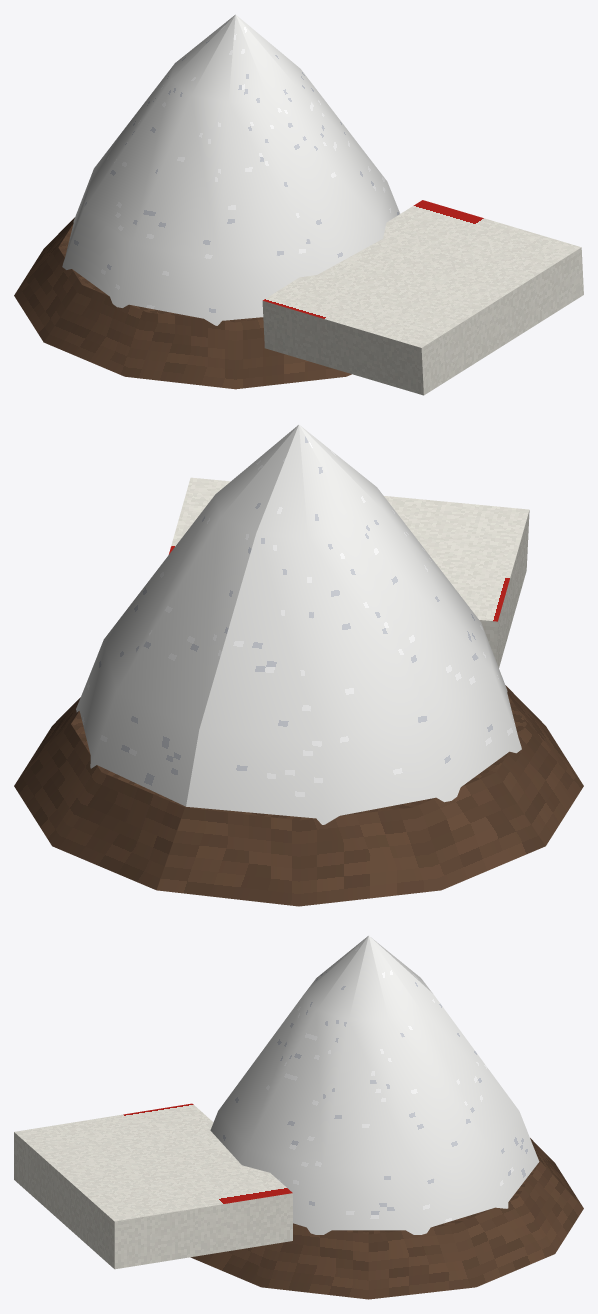
File: item_salt.glb
3 renders of one model, top to bottom at view 1: azimuth 30°, elevation 25°; view 2: azimuth 150°, elevation 25°; view 3: azimuth 270°, elevation 25°, orthographic. The views are drawn at different scales.
Parts seen in each view (by area): view 1: item_salt; view 2: item_salt; view 3: item_salt.
Part boxes in pixels (<box>): item_salt: <box>14,14,583,395</box>; item_salt: <box>14,425,583,906</box>; item_salt: <box>14,935,583,1299</box>.
Size of the model in its own units: 0.1066 by 0.07 by 0.1324.
Materials: 3 (3 with a texture image).
